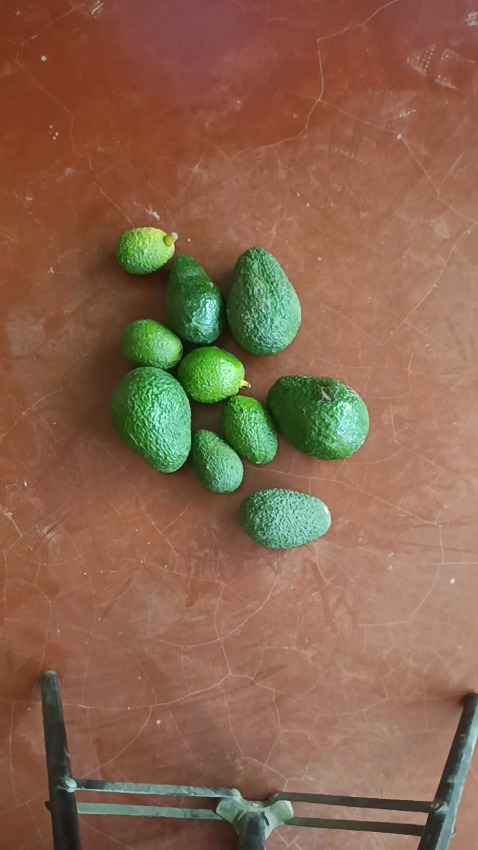Primera: (109, 366, 193, 472), (266, 375, 369, 460), (225, 246, 301, 354)
Segunda: (240, 488, 331, 550), (164, 254, 224, 345)
Tercera: (221, 394, 279, 466), (176, 346, 246, 403), (190, 428, 242, 491), (120, 319, 184, 370), (114, 225, 177, 275)
